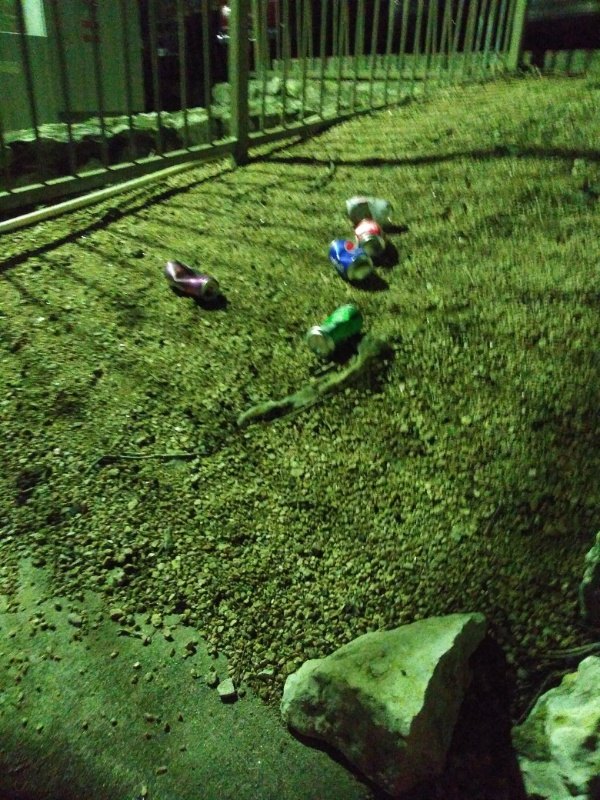can: (298, 302, 364, 355), (158, 254, 224, 305), (323, 235, 375, 284), (343, 194, 395, 228), (355, 215, 389, 259)
